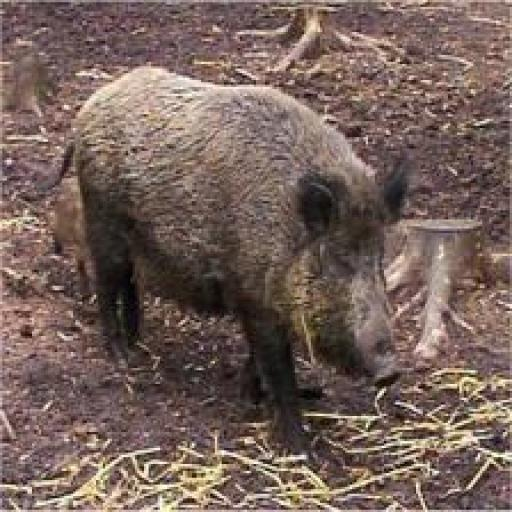Pig: (18, 55, 425, 474)
